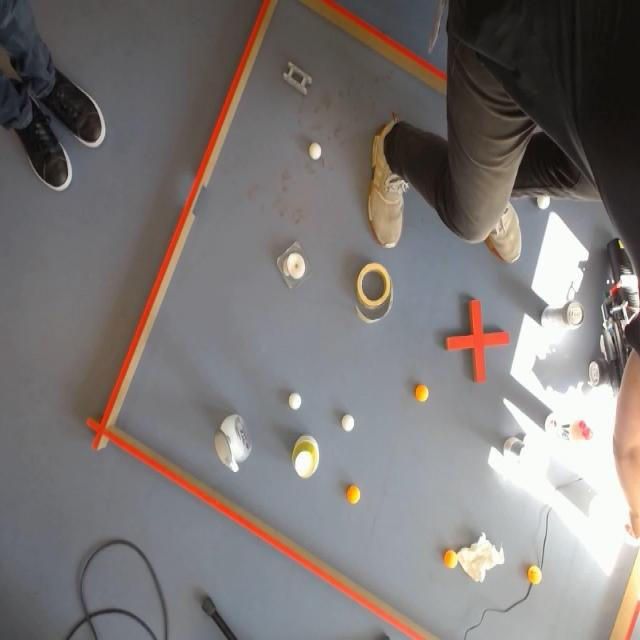orange: (413, 382, 431, 405), (345, 484, 361, 505), (526, 566, 542, 586), (442, 548, 457, 569)
robot: (590, 239, 640, 391)
white: (340, 411, 356, 434), (287, 391, 303, 413), (307, 141, 323, 162), (538, 196, 552, 209)
